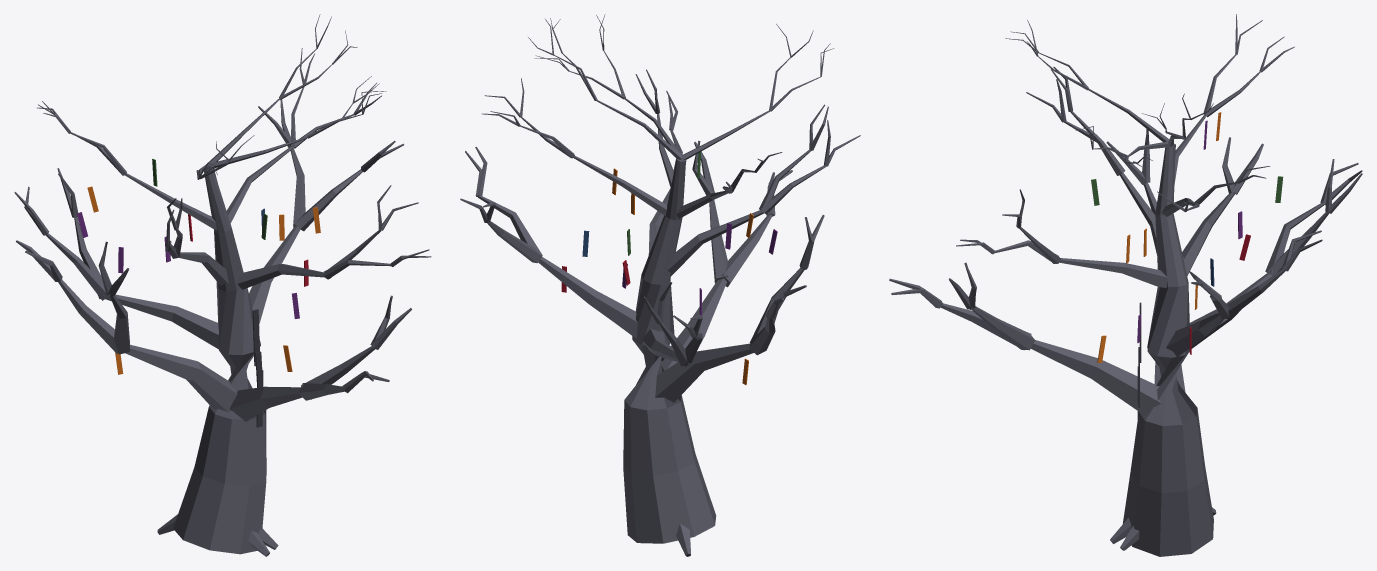
The model's file is ribbon_tree.glb.
3 renders of one model, left to right at view 1: azimuth 30°, elevation 25°; view 2: azimuth 150°, elevation 25°; view 3: azimuth 270°, elevation 25°, orthographic. The views are drawn at different scales.
Parts seen in each view (by area): view 1: ribbon_tree; view 2: ribbon_tree; view 3: ribbon_tree.
Boxes of the visible parts, left/top/right/bottom form: ribbon_tree: left=14, top=14, right=431, bottom=556; ribbon_tree: left=460, top=14, right=860, bottom=556; ribbon_tree: left=889, top=14, right=1362, bottom=556.
Size of the model in its own units: 3.24 by 4.25 by 3.61.
